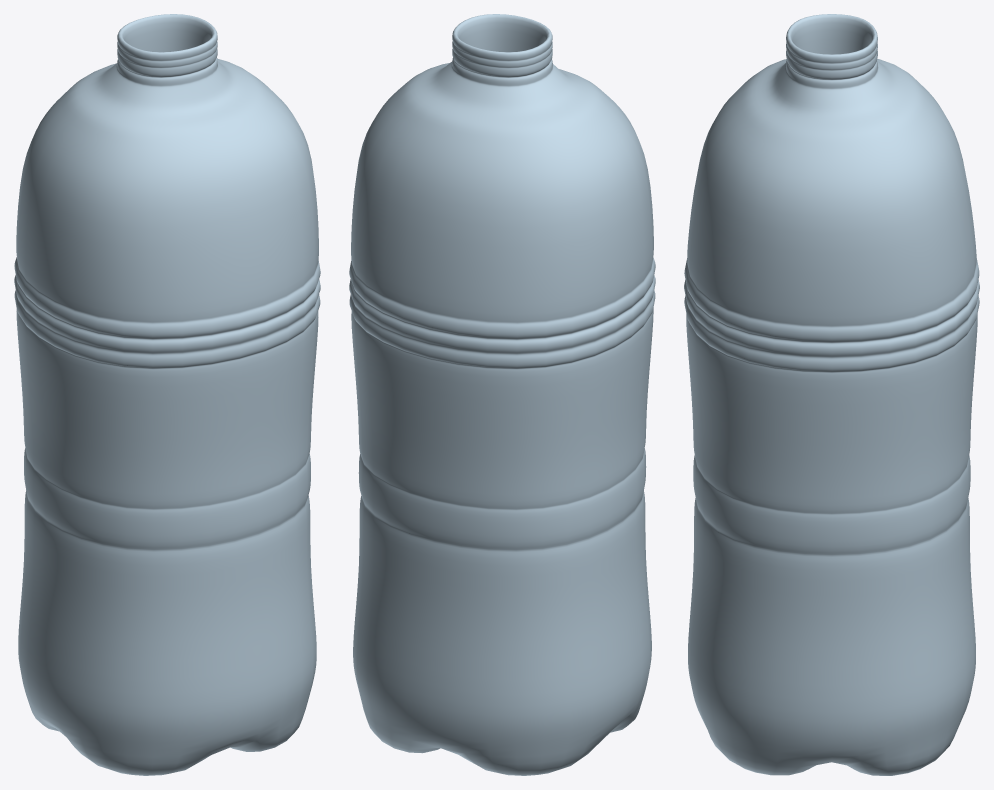
Rendered from Garrafa.fbx.
3 views of the same model, side by side, from view 1: azimuth 30°, elevation 25°; view 2: azimuth 150°, elevation 25°; view 3: azimuth 270°, elevation 25° (orthographic).
Parts seen in each view (by area): view 1: Cube.092; view 2: Cube.092; view 3: Cube.092.
Part boxes in pixels (bbox=[...]): Cube.092: bbox=[14, 14, 320, 775]; Cube.092: bbox=[349, 14, 655, 775]; Cube.092: bbox=[684, 14, 979, 775].
Size of the model in its own units: 9.71 by 24.74 by 9.45.
